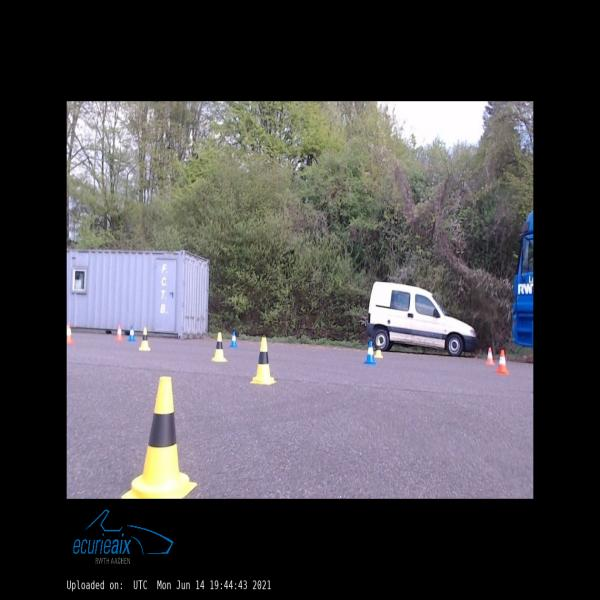blue_cone: (364, 342, 376, 364), (128, 326, 136, 341), (230, 333, 238, 347)
orange_cone: (496, 350, 508, 374), (67, 323, 74, 344), (486, 348, 494, 364), (115, 325, 123, 340)
yellow_cone: (122, 377, 196, 498), (250, 338, 276, 384), (212, 332, 227, 362), (139, 327, 151, 350), (375, 340, 383, 358)
